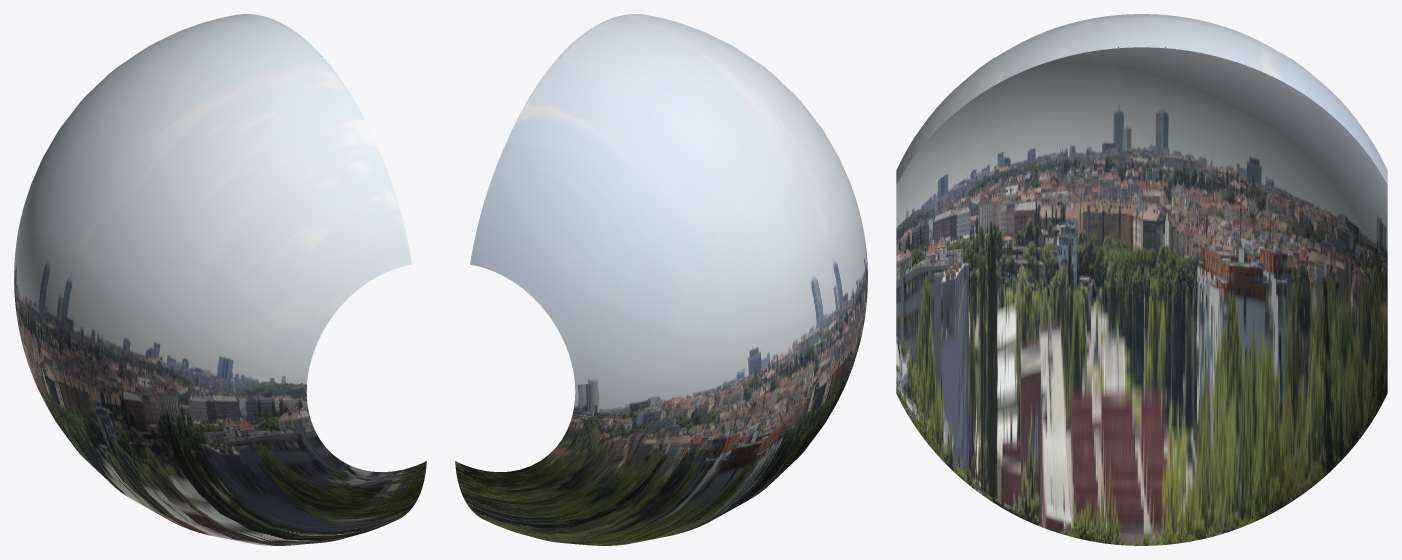
File: HospitalLandscape.fbx
3 views of the same model, side by side, from view 1: azimuth 30°, elevation 25°; view 2: azimuth 150°, elevation 25°; view 3: azimuth 270°, elevation 25° (orthographic).
Parts seen in each view (by area): view 1: landscape; view 2: landscape; view 3: landscape.
Part boxes in pixels (box(x1,y1,x2,y2)): landscape: box(14, 14, 426, 545); landscape: box(455, 14, 867, 545); landscape: box(896, 14, 1387, 545).
Bounding box in the file's own units: 57.75 × 94.47 × 86.32.
1 material, 1 textured.
